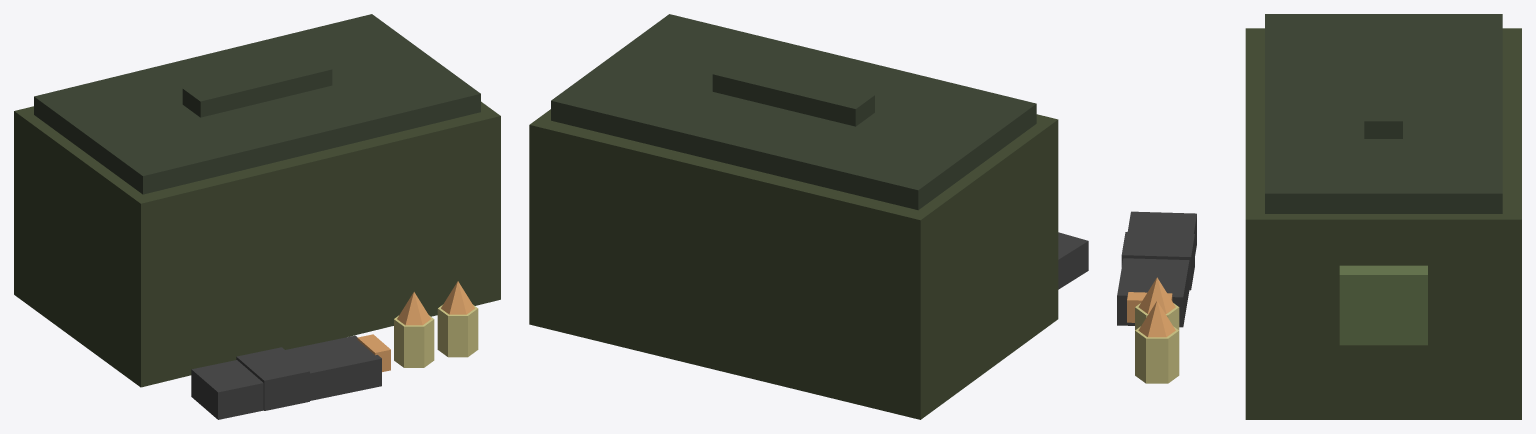
File: ce_ammo_pistol_fmj_c.obj
3 views of the same model, side by side, from view 1: azimuth 30°, elevation 25°; view 2: azimuth 150°, elevation 25°; view 3: azimuth 270°, elevation 25° (orthographic). The views are drawn at different scales.
Visible parts, largest first — view 1: ce_ammo_pistol_fmj_c_0, ce_ammo_pistol_fmj_c_1, ce_ammo_pistol_fmj_c_4, ce_ammo_pistol_fmj_c_2, ce_ammo_pistol_fmj_c_5, ce_ammo_pistol_fmj_c_9, ce_ammo_pistol_fmj_c_7, ce_ammo_pistol_fmj_c_8, ce_ammo_pistol_fmj_c_10, ce_ammo_pistol_fmj_c_6; view 2: ce_ammo_pistol_fmj_c_0, ce_ammo_pistol_fmj_c_1, ce_ammo_pistol_fmj_c_2, ce_ammo_pistol_fmj_c_4; view 3: ce_ammo_pistol_fmj_c_0, ce_ammo_pistol_fmj_c_1, ce_ammo_pistol_fmj_c_3, ce_ammo_pistol_fmj_c_4, ce_ammo_pistol_fmj_c_2, ce_ammo_pistol_fmj_c_9, ce_ammo_pistol_fmj_c_5, ce_ammo_pistol_fmj_c_10, ce_ammo_pistol_fmj_c_8, ce_ammo_pistol_fmj_c_7, ce_ammo_pistol_fmj_c_6.
Boxes of the visible parts, x1,y1,x2,y2 form: ce_ammo_pistol_fmj_c_0: (14, 101, 500, 387); ce_ammo_pistol_fmj_c_1: (34, 14, 480, 194); ce_ammo_pistol_fmj_c_4: (191, 335, 381, 419); ce_ammo_pistol_fmj_c_2: (182, 56, 332, 117); ce_ammo_pistol_fmj_c_5: (236, 347, 309, 410); ce_ammo_pistol_fmj_c_9: (437, 305, 478, 357); ce_ammo_pistol_fmj_c_7: (394, 315, 434, 367); ce_ammo_pistol_fmj_c_8: (397, 292, 430, 325); ce_ammo_pistol_fmj_c_10: (441, 281, 474, 314); ce_ammo_pistol_fmj_c_6: (357, 334, 390, 371); ce_ammo_pistol_fmj_c_0: (529, 109, 1058, 419); ce_ammo_pistol_fmj_c_1: (551, 14, 1036, 210); ce_ammo_pistol_fmj_c_2: (712, 60, 874, 126); ce_ammo_pistol_fmj_c_4: (1058, 232, 1088, 289); ce_ammo_pistol_fmj_c_0: (1245, 28, 1521, 419); ce_ammo_pistol_fmj_c_1: (1265, 14, 1502, 213); ce_ammo_pistol_fmj_c_3: (1339, 265, 1427, 345); ce_ammo_pistol_fmj_c_4: (1117, 211, 1196, 327); ce_ammo_pistol_fmj_c_2: (1364, 51, 1402, 138); ce_ammo_pistol_fmj_c_9: (1135, 326, 1179, 383); ce_ammo_pistol_fmj_c_5: (1121, 232, 1194, 290); ce_ammo_pistol_fmj_c_10: (1138, 301, 1175, 337); ce_ammo_pistol_fmj_c_8: (1138, 277, 1175, 313); ce_ammo_pistol_fmj_c_7: (1135, 303, 1179, 330); ce_ammo_pistol_fmj_c_6: (1127, 292, 1172, 322).
Bounding box in the file's own units: 0.86 × 0.475 × 0.7324.
